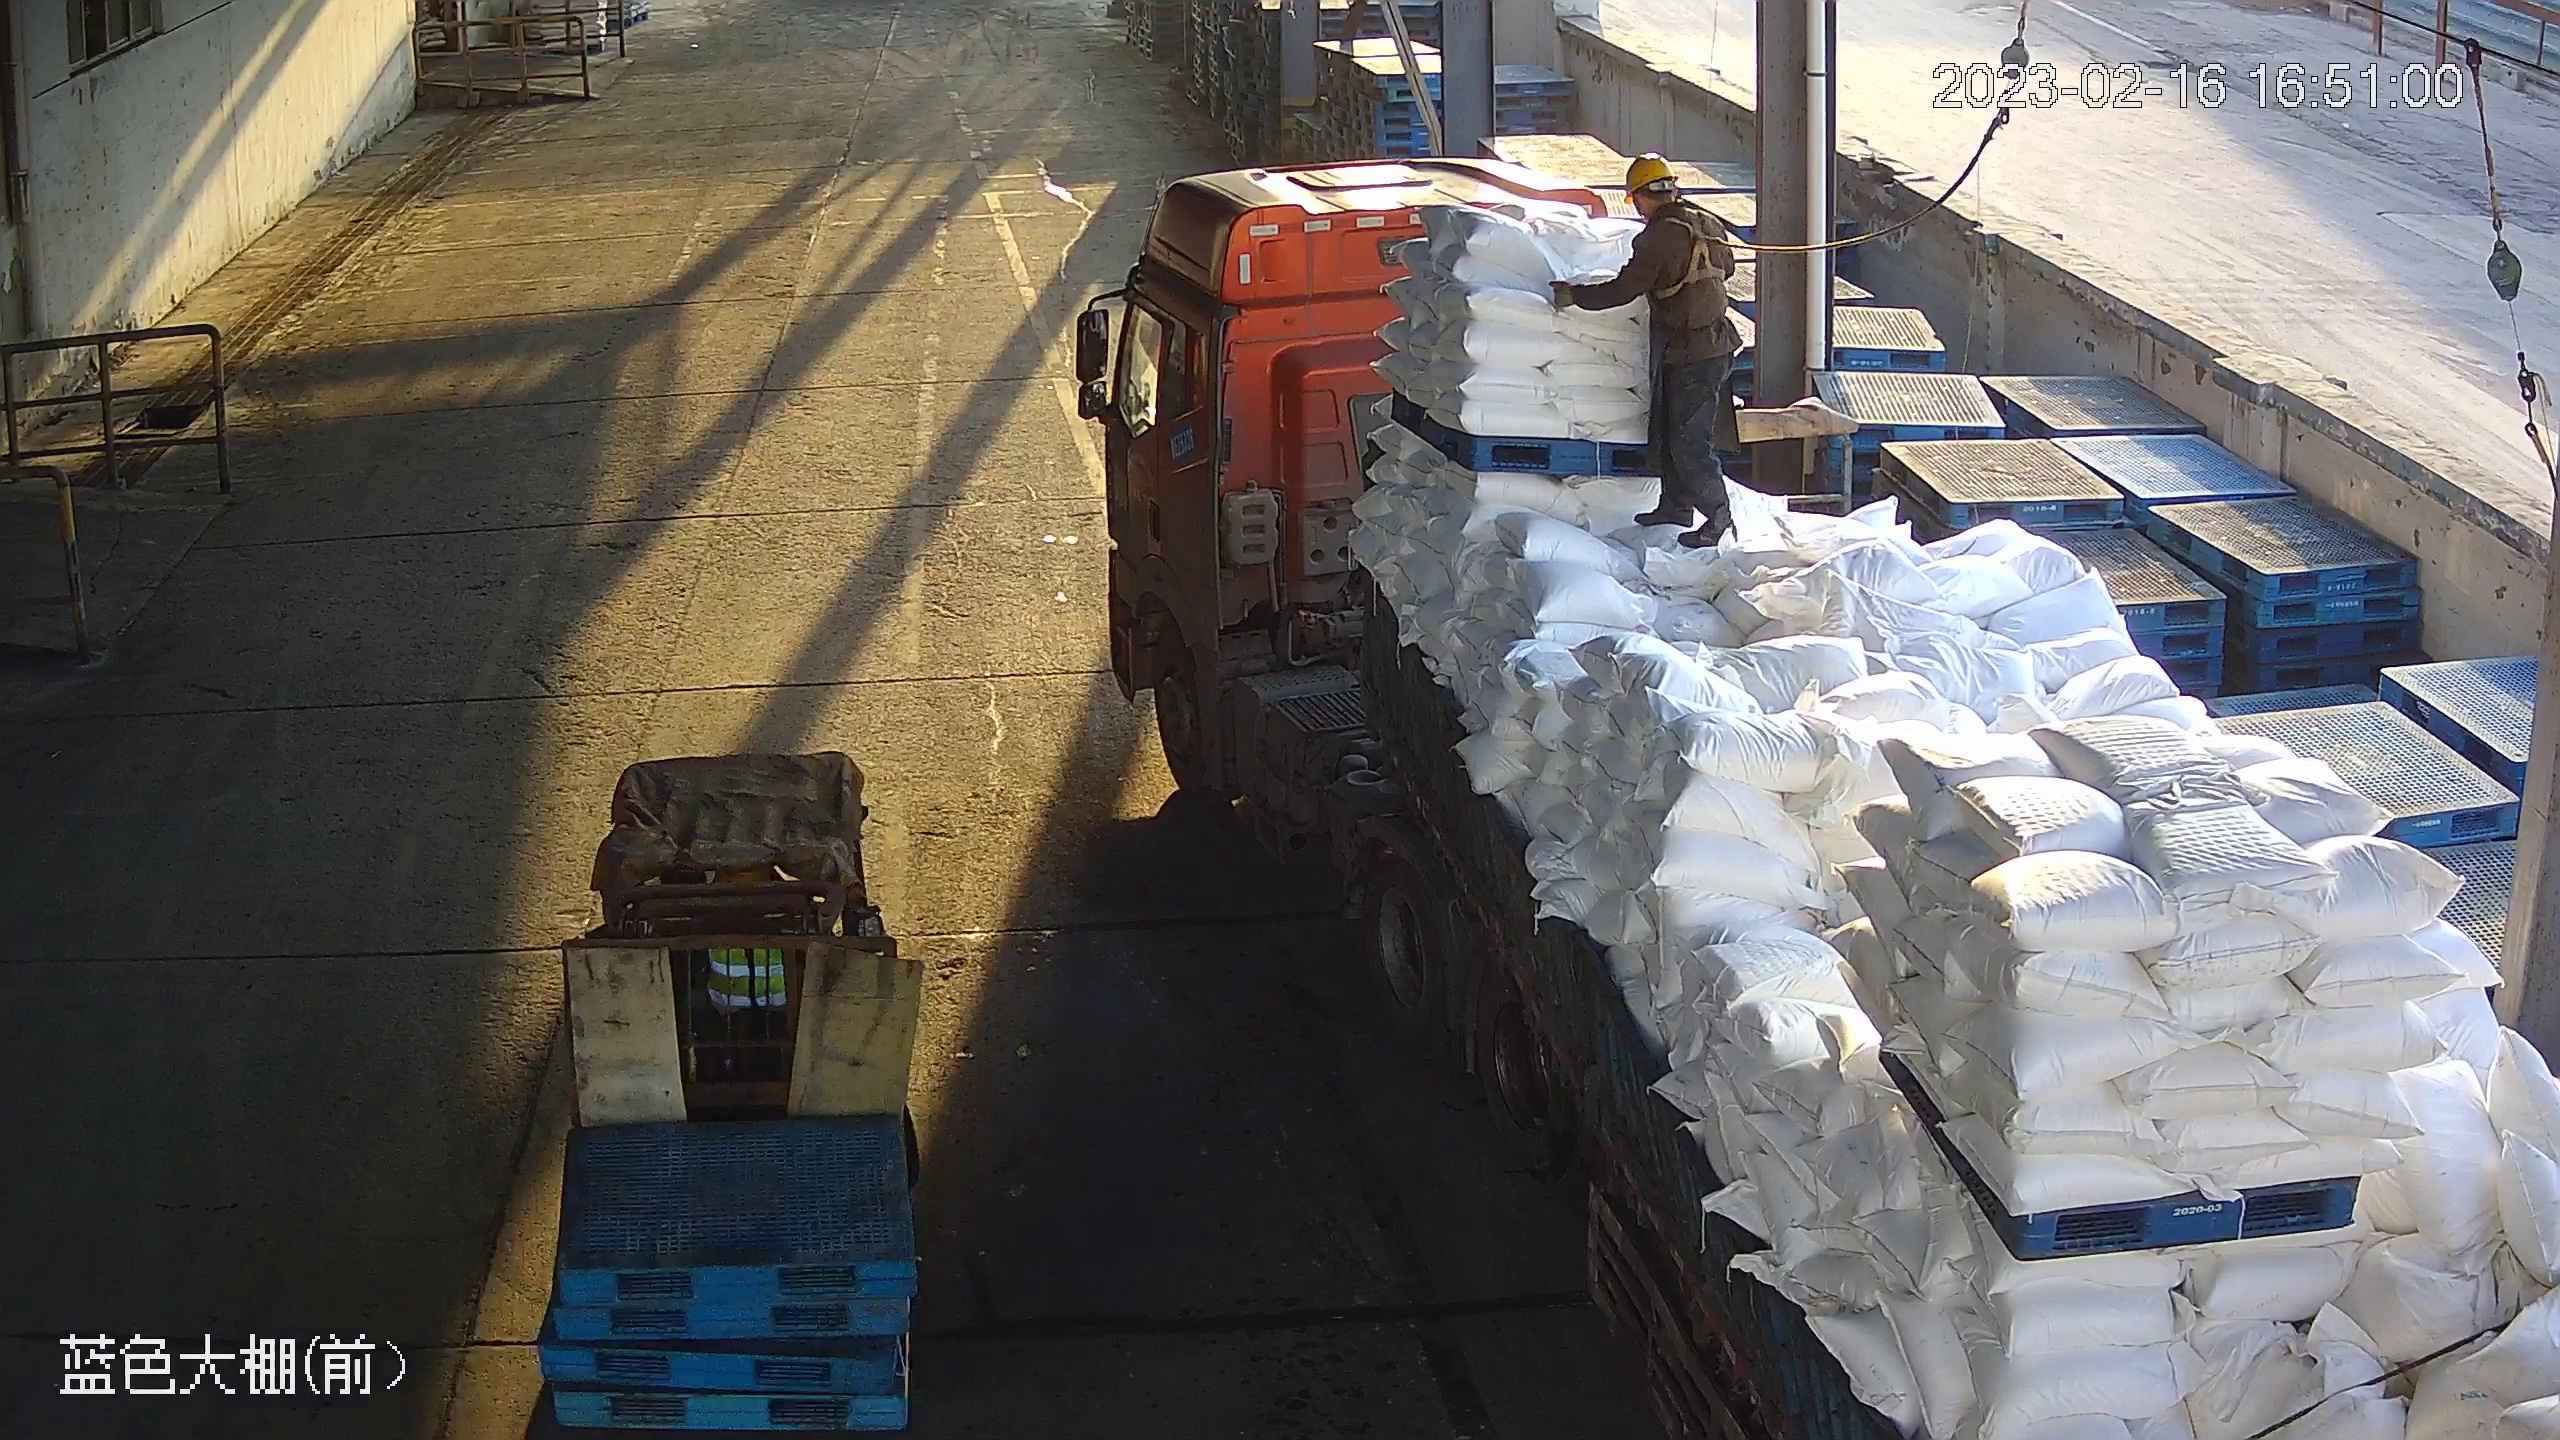belt: (1650, 209, 1727, 298)
head: (1622, 153, 1735, 256)
helmet: (1624, 153, 1678, 204)
people: (1550, 153, 1745, 545)
truck: (1076, 157, 2560, 1440)
